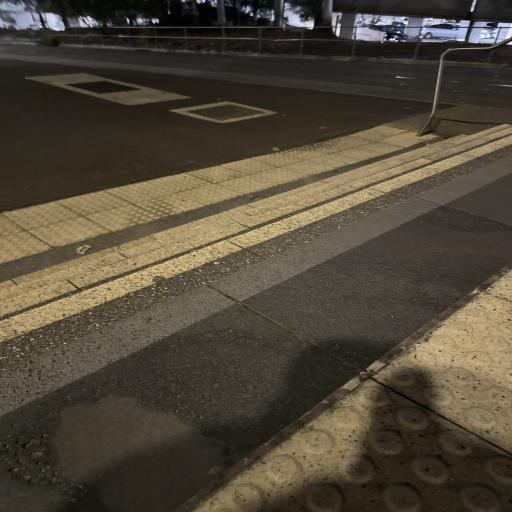stairs: (0, 124, 512, 341)
